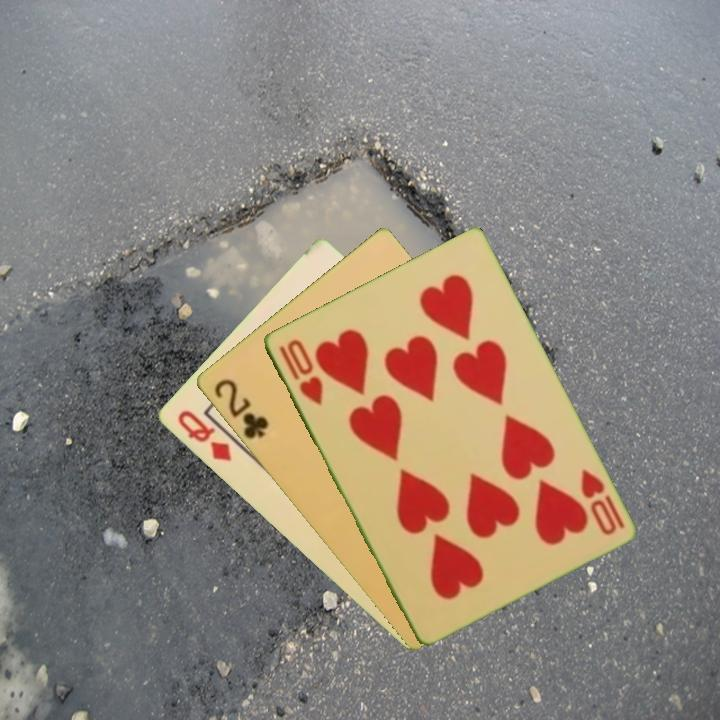10h: (274, 335, 326, 408), (576, 465, 627, 539)
2c: (210, 375, 271, 442)
Qd: (173, 406, 235, 465)
